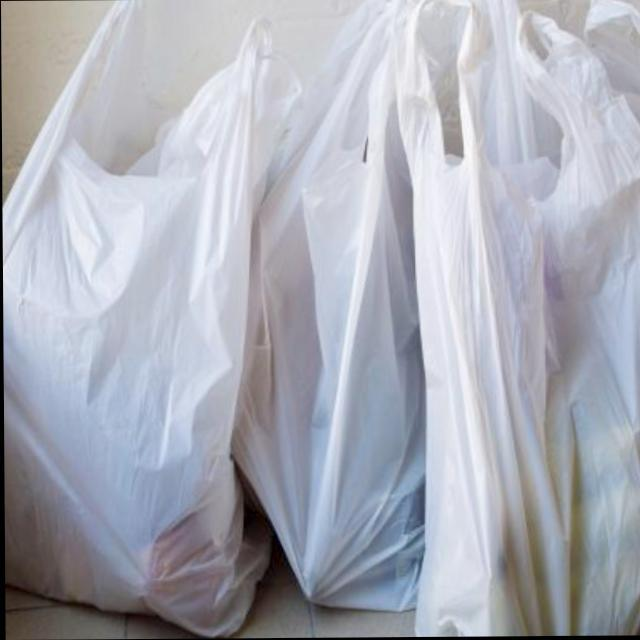Single-layer Plastic: (5, 2, 271, 636), (388, 1, 640, 635), (234, 4, 425, 609)
